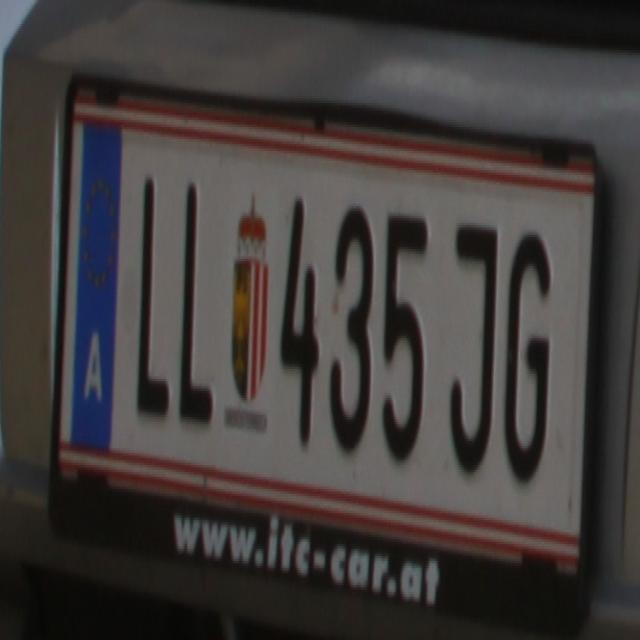3: (329, 194, 376, 458)
4: (276, 189, 320, 453)
5: (381, 199, 429, 463)
G: (505, 223, 554, 487)
L: (178, 173, 218, 429), (130, 172, 170, 414)
